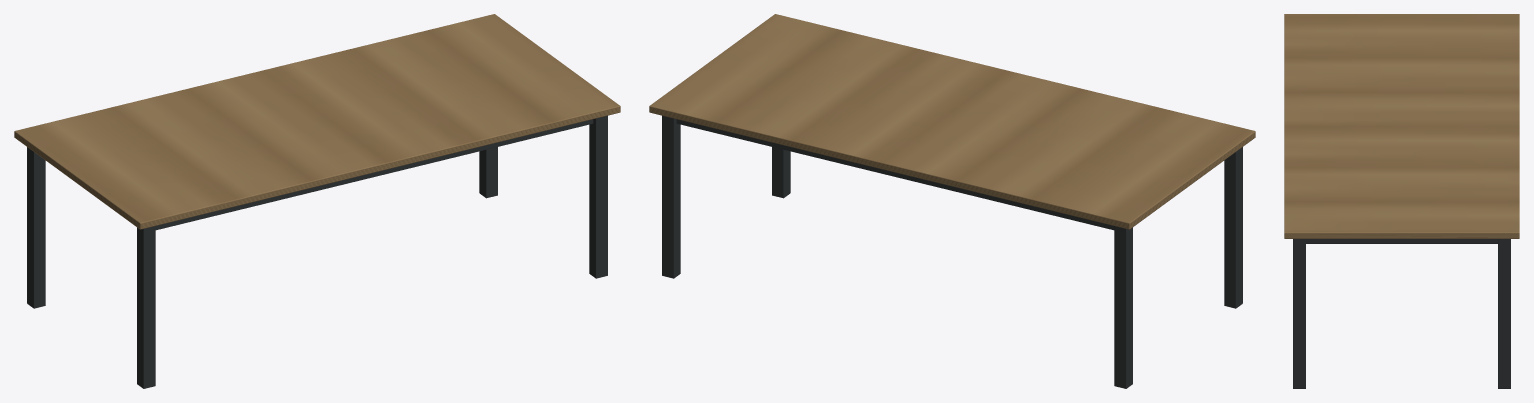
3 views of the same model, side by side, from view 1: azimuth 30°, elevation 25°; view 2: azimuth 150°, elevation 25°; view 3: azimuth 270°, elevation 25° (orthographic). The views are drawn at different scales.
Parts seen in each view (by area): view 1: Thin rectangular pale laminate top, Square steel leg; view 2: Thin rectangular pale laminate top, Square steel leg; view 3: Thin rectangular pale laminate top, Square steel leg.
Boxes of the visible parts, x1,y1,x2,y2 form: Thin rectangular pale laminate top: [14, 14, 620, 229]; Square steel leg: [27, 115, 607, 388]; Thin rectangular pale laminate top: [649, 14, 1255, 229]; Square steel leg: [662, 115, 1242, 388]; Thin rectangular pale laminate top: [1284, 14, 1519, 238]; Square steel leg: [1293, 239, 1510, 388].
Bounding box in the file's own units: 2.2 × 0.75 × 1.
Materials: 3 (1 with a texture image).
